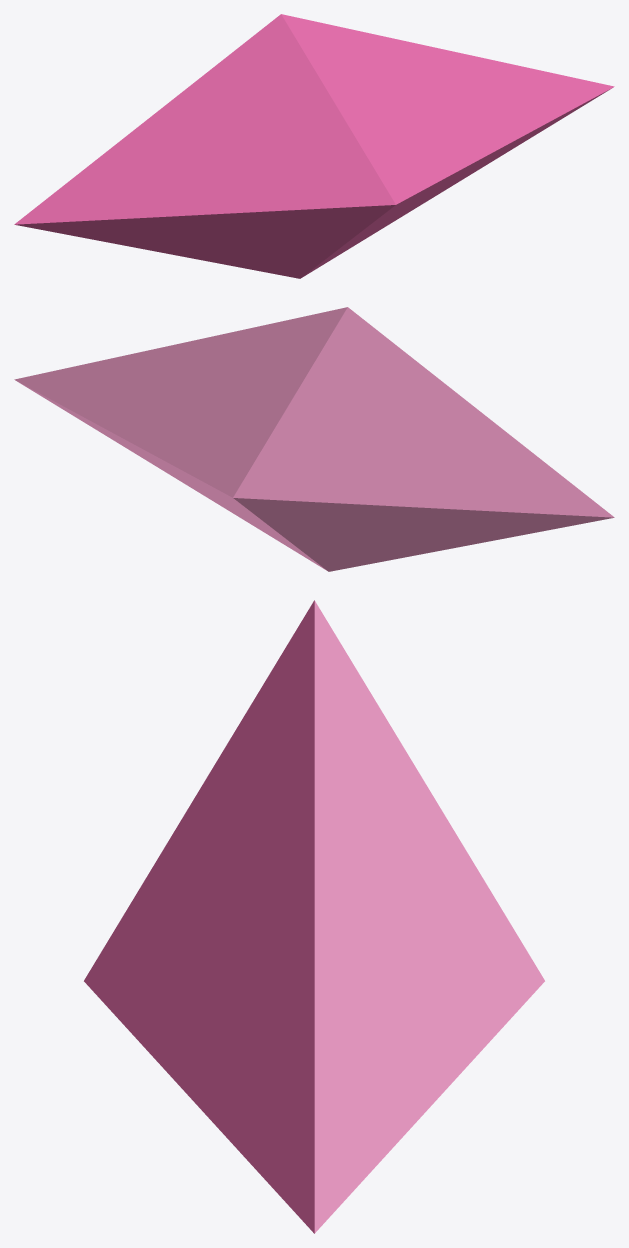
The picture shows the model from 3 angles, top to bottom: view 1: azimuth 30°, elevation 25°; view 2: azimuth 150°, elevation 25°; view 3: azimuth 270°, elevation 25°; orthographic projection. The views are drawn at different scales.
Visible parts, largest first — view 1: 菱折鸟身与折脊.001; view 2: 菱折鸟身与折脊.001; view 3: 菱折鸟身与折脊.001.
Part boxes in pixels (box(x1,y1,x2,y2)): 菱折鸟身与折脊.001: box(14, 14, 614, 278); 菱折鸟身与折脊.001: box(14, 307, 614, 571); 菱折鸟身与折脊.001: box(84, 600, 544, 1233).
Bounding box in the file's own units: 0.6615 × 0.2835 × 0.22.
